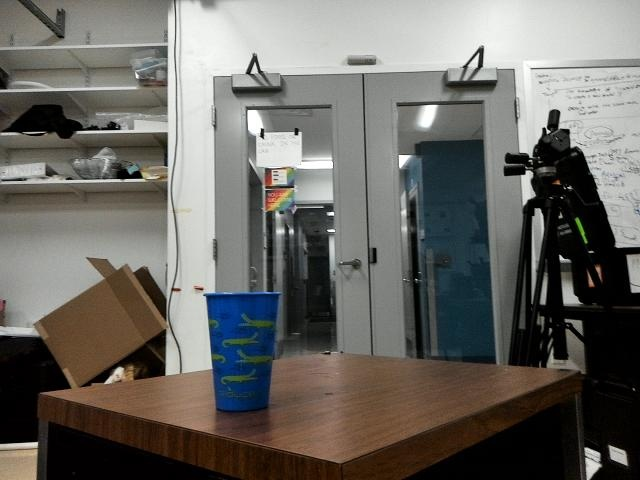water_cup: (194, 285, 288, 419)
